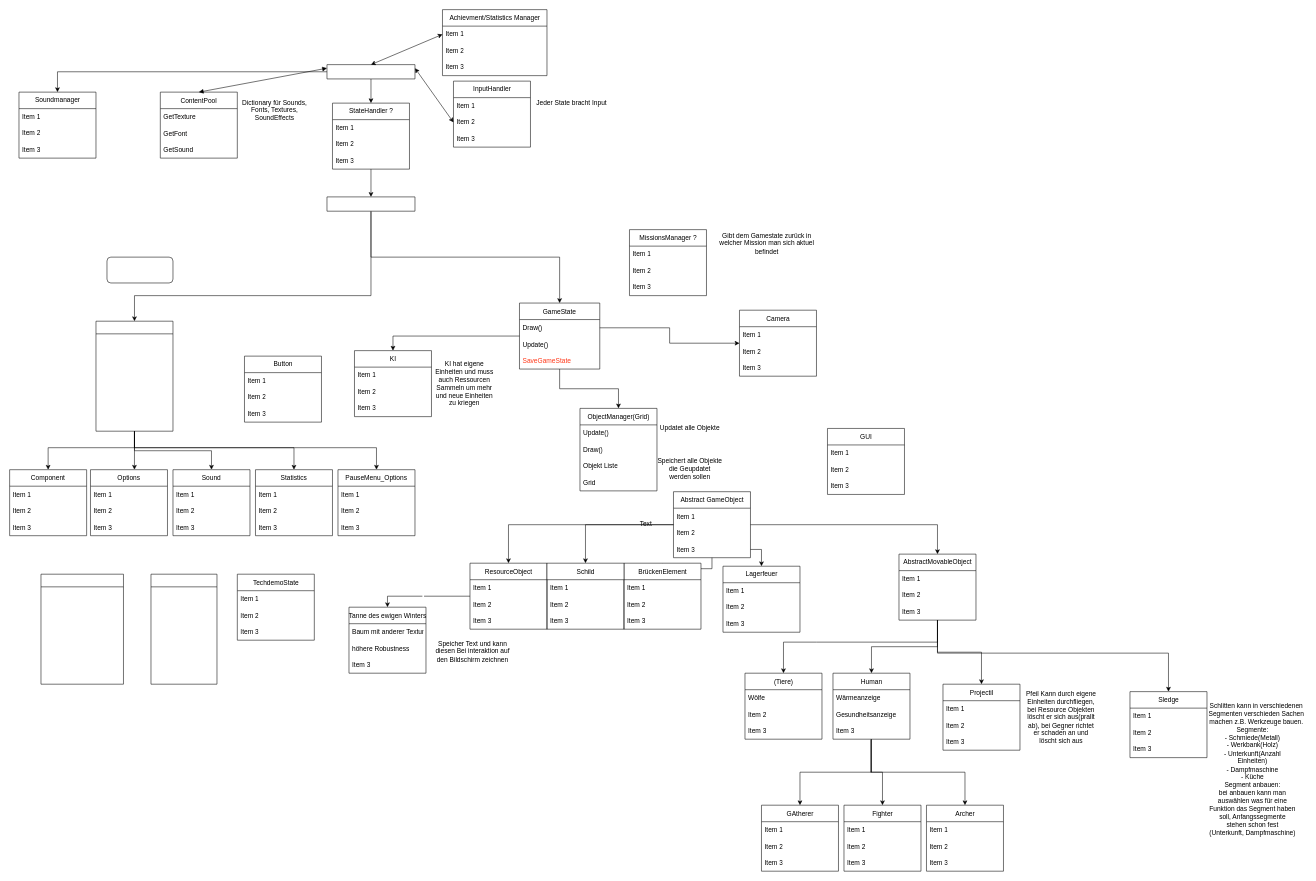
This 1316x881 diagram has some shape labels left out. Here are the shapes that lost their labels. From the top down, the centre of each, then its label:
point 370,71: Game1
point 370,203: State
point 139,270: Menü
point 134,376: MenuState
point 81,629: PauseMenuState
point 183,629: SpielEndeState
